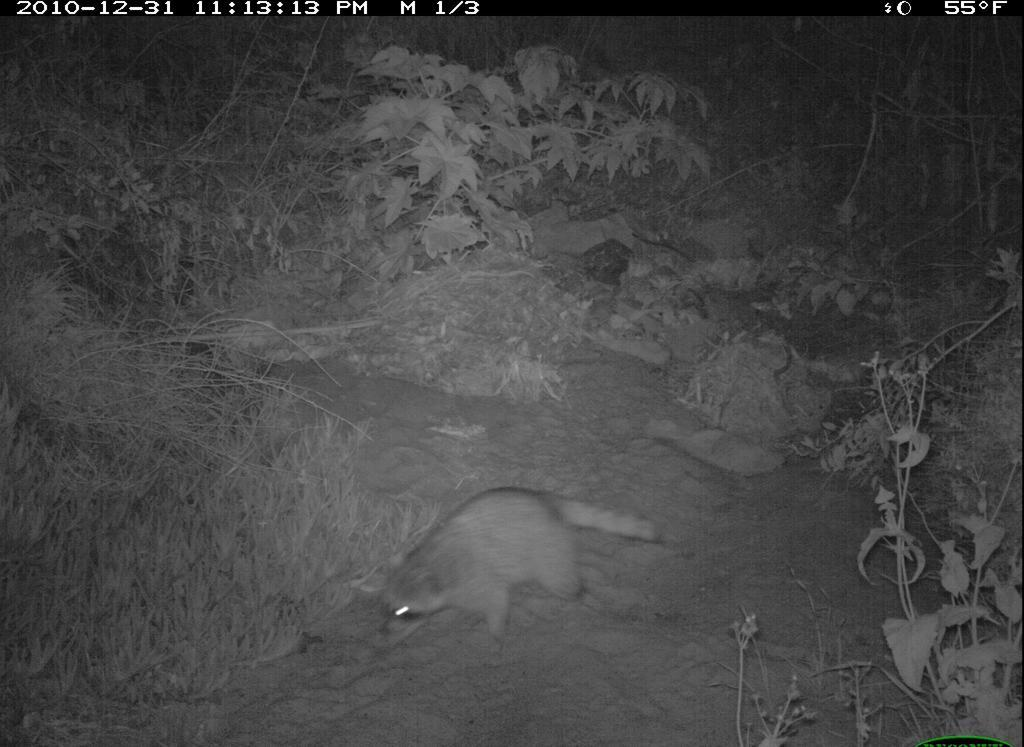raccoon: (350, 466, 675, 660)
